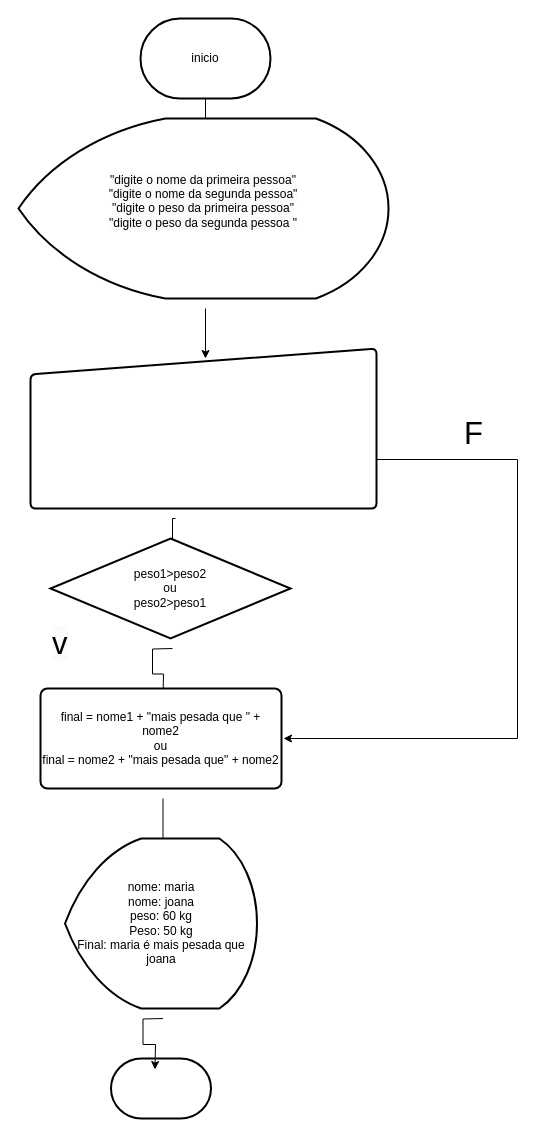
This 543x1136 diagram has some shape labels left out. Each missing label, with the centre of its shape:
"fim" goes at pixel 161 1088.
"nome1 nome2 peso1 peso2" goes at pixel 203 428.
